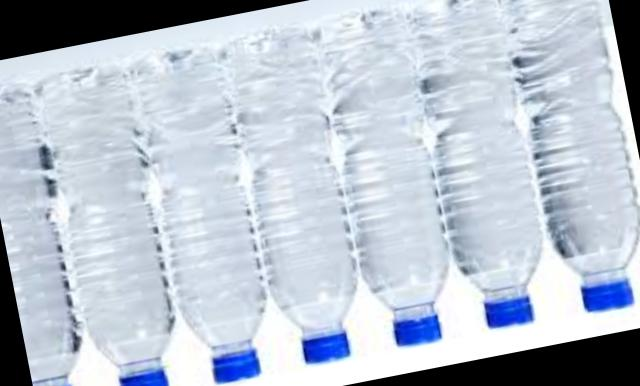plastic: (134, 51, 265, 380), (38, 70, 172, 386), (323, 12, 449, 346), (231, 33, 354, 365), (423, 0, 542, 327), (515, 0, 639, 311), (0, 97, 77, 386)
